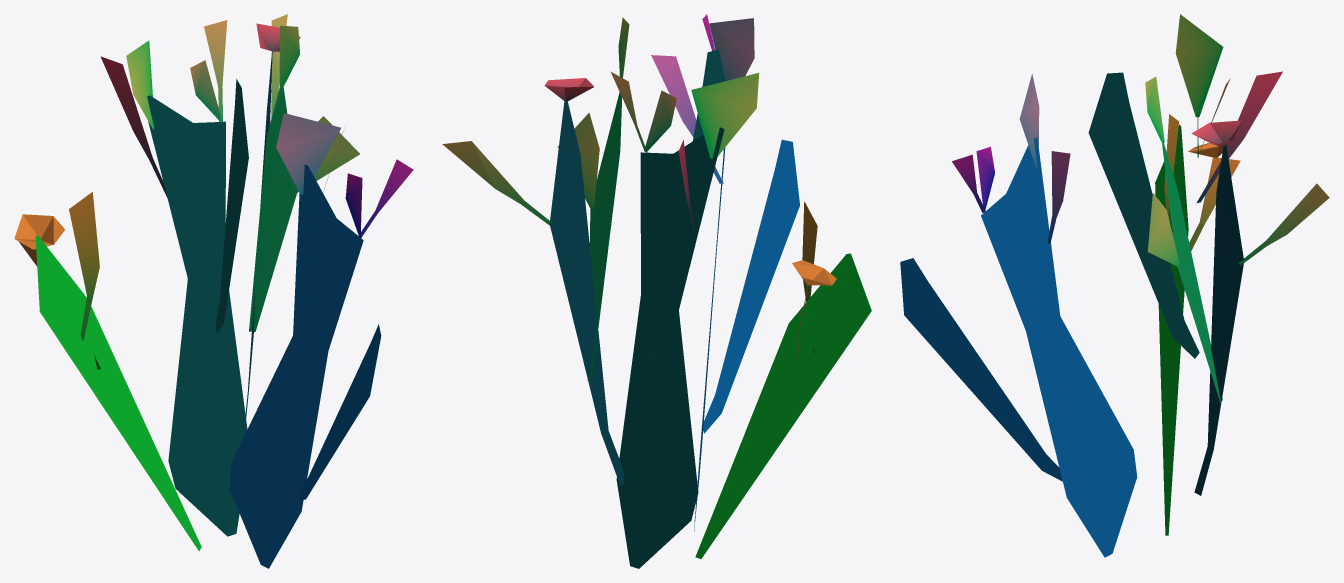
Rendered from Nordic_Coastal_Groundcover_vlqkdeaja_Mid_vlqkdeaja_VarA_LOD1.fbx.
3 renders of one model, left to right at view 1: azimuth 30°, elevation 25°; view 2: azimuth 150°, elevation 25°; view 3: azimuth 270°, elevation 25°, orthographic. The views are drawn at different scales.
Visible parts, largest first — view 1: _1is7_VarA_LOD3; view 2: _1is7_VarA_LOD3; view 3: _1is7_VarA_LOD3.
Part boxes in pixels (bbox=[...]): _1is7_VarA_LOD3: bbox=[14, 14, 413, 568]; _1is7_VarA_LOD3: bbox=[442, 14, 871, 568]; _1is7_VarA_LOD3: bbox=[900, 14, 1329, 557].
Bounding box in the file's own units: 31.36 × 46.03 × 35.58.
